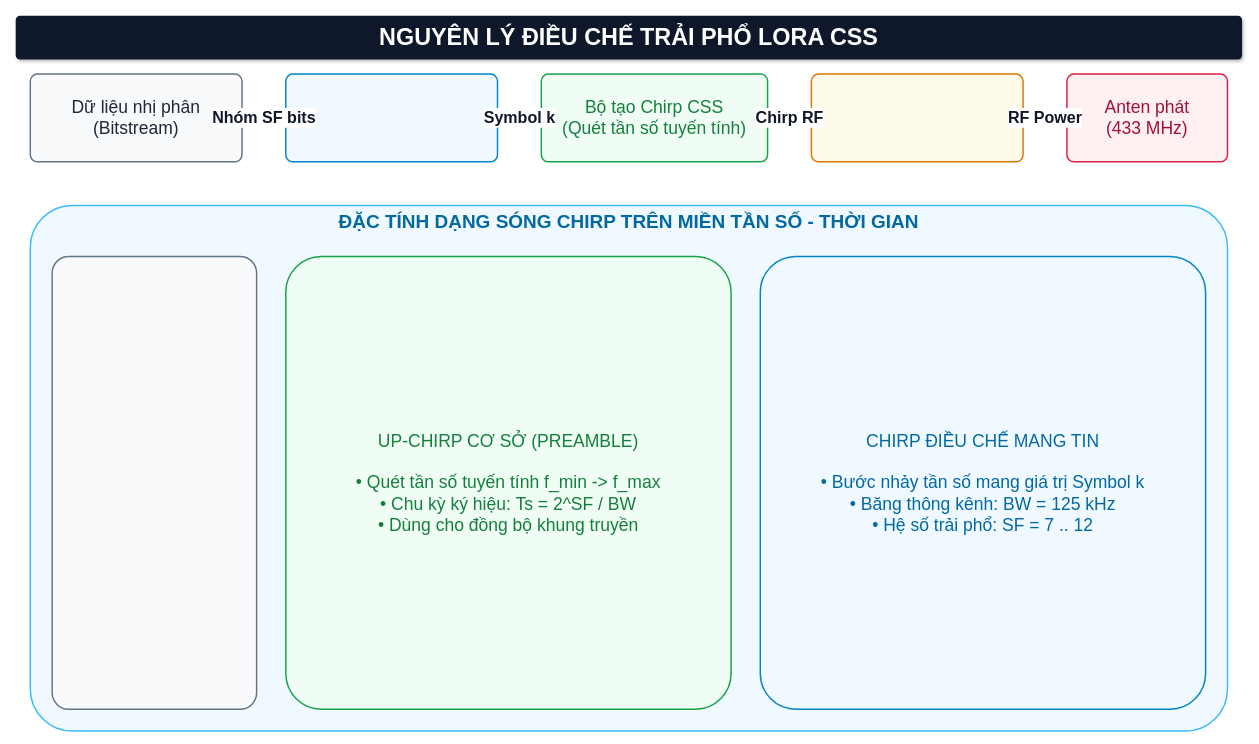
Some shapes in this 1259 by 744 pixel diagram are drawn without their labels. The centre of each missing label's shape, as x and y in pixels:
"Khuếch đại PA (+17 dBm)" belongs at point (916, 117).
"Mã hóa Symbol (k = 0 .. 2^SF - 1)" belongs at point (391, 117).
"Trục tần số (f) f0 + BW/2 f0 (433.x MHz) f0 - BW/2" belongs at point (154, 483).
